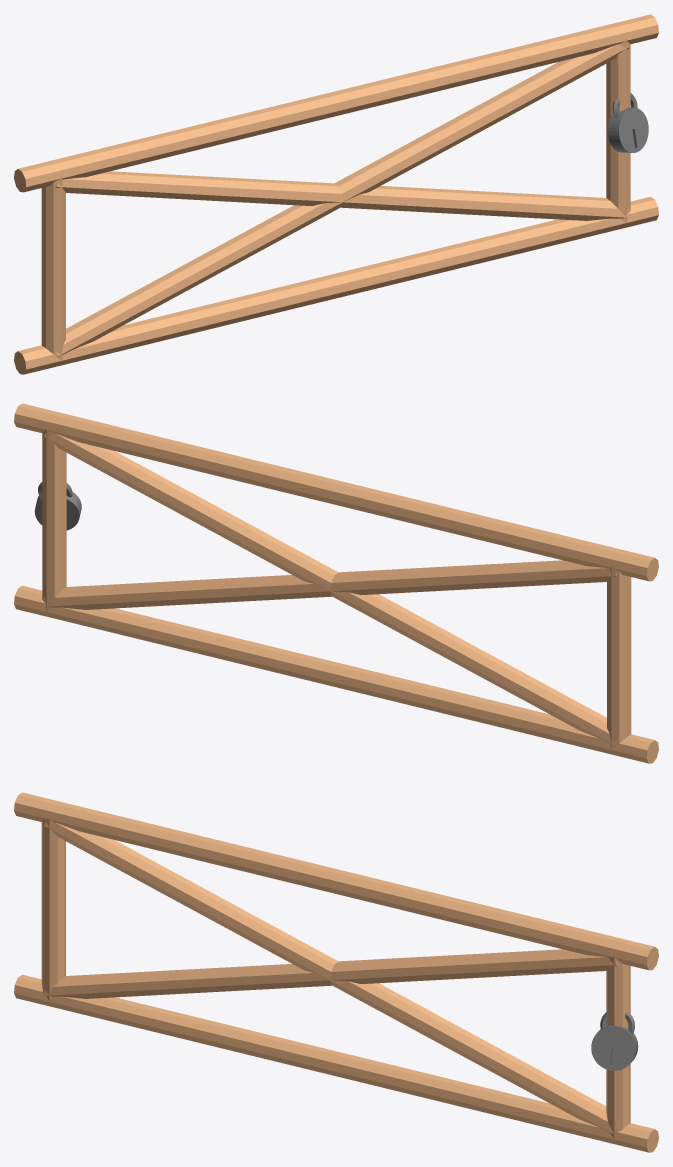
Rendered from Gate.fbx.
3 renders of one model, top to bottom at view 1: azimuth 30°, elevation 25°; view 2: azimuth 150°, elevation 25°; view 3: azimuth 330°, elevation 25°, orthographic.
Parts seen in each view (by area): view 1: Cylinder_1, Cylinder, Cylinder_5, Cylinder_3, Cylinder_2, Cylinder_4, Cylinder_6; view 2: Cylinder_1, Cylinder, Cylinder_5, Cylinder_3, Cylinder_2, Cylinder_4, Cylinder_6; view 3: Cylinder_1, Cylinder, Cylinder_3, Cylinder_5, Cylinder_2, Cylinder_4, Cylinder_6.
Part boxes in pixels (x1,y1,x2,y2): Cylinder_1: (14, 14, 658, 192); Cylinder: (14, 196, 658, 374); Cylinder_5: (55, 44, 628, 357); Cylinder_3: (55, 171, 628, 220); Cylinder_2: (41, 176, 65, 360); Cylinder_4: (606, 39, 630, 222); Cylinder_6: (607, 107, 648, 152); Cylinder_1: (14, 403, 658, 581); Cylinder: (14, 585, 658, 763); Cylinder_5: (44, 433, 617, 746); Cylinder_3: (44, 560, 617, 609); Cylinder_2: (607, 565, 631, 749); Cylinder_4: (42, 428, 66, 611); Cylinder_6: (34, 492, 81, 530); Cylinder_1: (14, 792, 658, 970); Cylinder: (14, 974, 658, 1152); Cylinder_3: (44, 821, 618, 1134); Cylinder_5: (44, 949, 618, 998); Cylinder_2: (41, 817, 65, 1001); Cylinder_4: (606, 955, 630, 1138); Cylinder_6: (591, 1025, 638, 1070).
Size of the model in its own units: 484 by 149 by 27.95.
